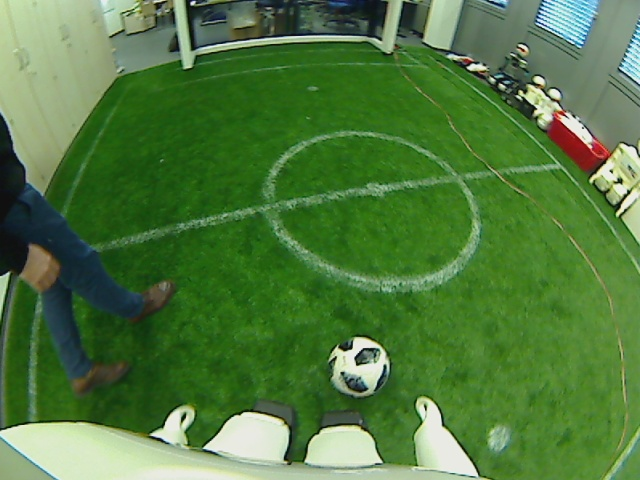ball: (325, 335, 391, 399)
